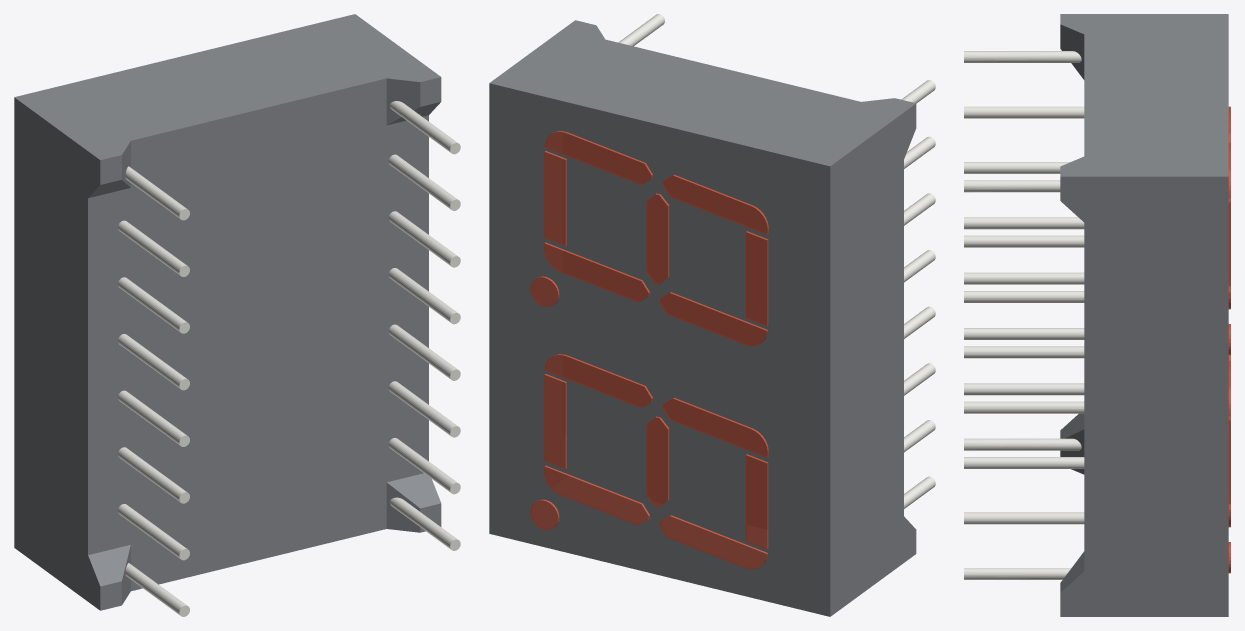
The model's file is DA04-11SURKWA.glb.
3 renders of one model, left to right at view 1: azimuth 30°, elevation 25°; view 2: azimuth 150°, elevation 25°; view 3: azimuth 270°, elevation 25°, orthographic. The views are drawn at different scales.
Visible parts, largest first — view 1: Shape_IndexedFaceSet.003, Shape_IndexedFaceSet.006, Shape_IndexedFaceSet.021, Shape_IndexedFaceSet.002, Shape_IndexedFaceSet.013, Shape_IndexedFaceSet.012, Shape_IndexedFaceSet.014, Shape_IndexedFaceSet.004, Shape_IndexedFaceSet.028, Shape_IndexedFaceSet.036, Shape_IndexedFaceSet.031, Shape_IndexedFaceSet.033 (+15 smaller); view 2: Shape_IndexedFaceSet.020, Shape_IndexedFaceSet.006, Shape_IndexedFaceSet.021, Shape_IndexedFaceSet.153, Shape_IndexedFaceSet.147, Shape_IndexedFaceSet.156, Shape_IndexedFaceSet.160, Shape_IndexedFaceSet.155, Shape_IndexedFaceSet.148, Shape_IndexedFaceSet.151, Shape_IndexedFaceSet.161, Shape_IndexedFaceSet.158 (+7 smaller); view 3: Shape_IndexedFaceSet.027, Shape_IndexedFaceSet.021, Shape_IndexedFaceSet.001, Shape_IndexedFaceSet.007, Shape_IndexedFaceSet.010, Shape_IndexedFaceSet.030, Shape_IndexedFaceSet.031, Shape_IndexedFaceSet.032, Shape_IndexedFaceSet.034, Shape_IndexedFaceSet.008, Shape_IndexedFaceSet.038, Shape_IndexedFaceSet.011 (+10 smaller).
Part boxes in pixels (bbox=[...]): Shape_IndexedFaceSet.003: bbox=[131, 125, 386, 544]; Shape_IndexedFaceSet.006: bbox=[14, 97, 100, 610]; Shape_IndexedFaceSet.021: bbox=[14, 14, 440, 159]; Shape_IndexedFaceSet.002: bbox=[88, 188, 130, 554]; Shape_IndexedFaceSet.013: bbox=[131, 78, 386, 187]; Shape_IndexedFaceSet.012: bbox=[386, 115, 428, 481]; Shape_IndexedFaceSet.014: bbox=[131, 482, 386, 591]; Shape_IndexedFaceSet.004: bbox=[88, 545, 130, 586]; Shape_IndexedFaceSet.028: bbox=[387, 473, 440, 508]; Shape_IndexedFaceSet.036: bbox=[386, 78, 420, 124]; Shape_IndexedFaceSet.031: bbox=[388, 324, 457, 379]; Shape_IndexedFaceSet.033: bbox=[388, 381, 458, 435]; Shape_IndexedFaceSet.020: bbox=[489, 83, 830, 616]; Shape_IndexedFaceSet.006: bbox=[830, 104, 916, 616]; Shape_IndexedFaceSet.021: bbox=[489, 20, 915, 166]; Shape_IndexedFaceSet.153: bbox=[544, 132, 651, 184]; Shape_IndexedFaceSet.147: bbox=[663, 175, 767, 234]; Shape_IndexedFaceSet.156: bbox=[544, 355, 651, 407]; Shape_IndexedFaceSet.160: bbox=[663, 398, 767, 457]; Shape_IndexedFaceSet.155: bbox=[544, 466, 648, 525]; Shape_IndexedFaceSet.148: bbox=[659, 293, 766, 346]; Shape_IndexedFaceSet.151: bbox=[544, 243, 648, 302]; Shape_IndexedFaceSet.161: bbox=[659, 516, 766, 569]; Shape_IndexedFaceSet.158: bbox=[746, 455, 767, 549]; Shape_IndexedFaceSet.027: bbox=[1060, 176, 1228, 616]; Shape_IndexedFaceSet.021: bbox=[1060, 14, 1228, 176]; Shape_IndexedFaceSet.001: bbox=[964, 106, 1084, 118]; Shape_IndexedFaceSet.007: bbox=[964, 272, 1084, 284]; Shape_IndexedFaceSet.010: bbox=[964, 383, 1084, 395]; Shape_IndexedFaceSet.030: bbox=[964, 346, 1084, 358]; Shape_IndexedFaceSet.031: bbox=[964, 401, 1084, 413]; Shape_IndexedFaceSet.032: bbox=[964, 512, 1084, 524]; Shape_IndexedFaceSet.034: bbox=[964, 235, 1084, 247]; Shape_IndexedFaceSet.008: bbox=[964, 217, 1084, 229]; Shape_IndexedFaceSet.038: bbox=[964, 438, 1081, 450]; Shape_IndexedFaceSet.011: bbox=[964, 328, 1084, 339].
Size of the model in its own units: 6.3 by 7.95 by 4.37.
